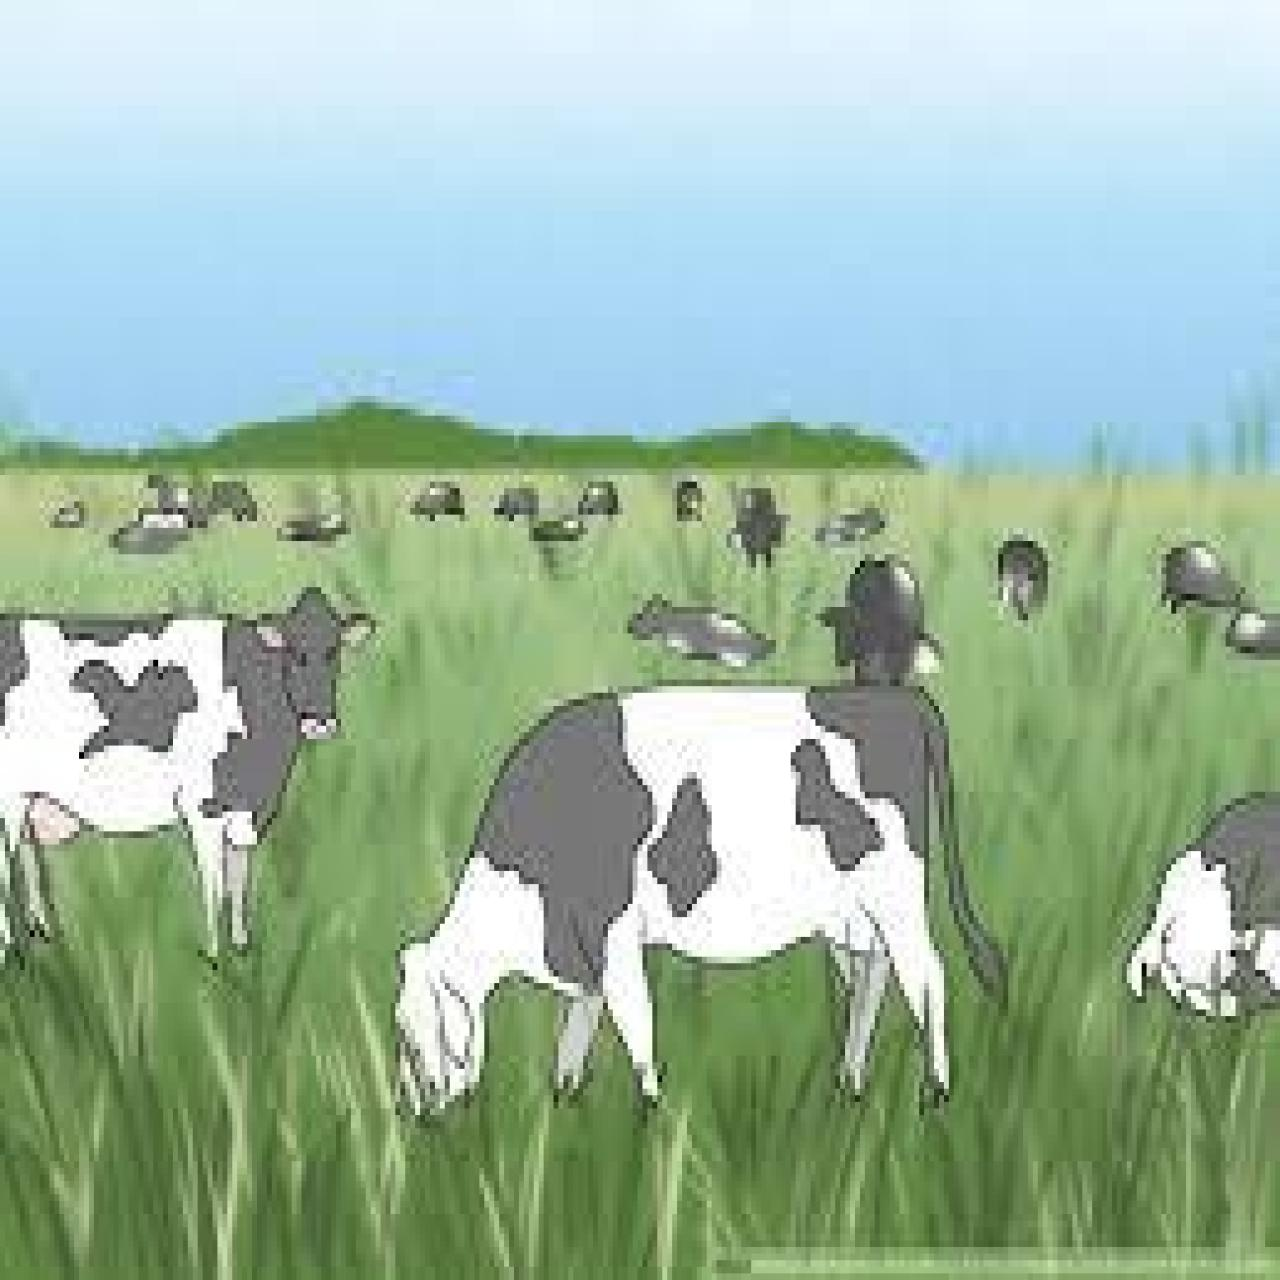cow: (393, 680, 1012, 1129), (0, 584, 376, 967), (1126, 791, 1280, 1022), (816, 554, 948, 686), (625, 591, 783, 669), (1157, 538, 1251, 617), (990, 535, 1050, 627), (147, 471, 210, 531), (114, 508, 192, 554), (810, 498, 890, 544), (741, 485, 781, 577), (1225, 610, 1280, 663), (727, 511, 796, 551), (203, 478, 263, 524), (410, 478, 470, 524), (274, 508, 354, 542), (573, 478, 622, 524), (492, 485, 542, 524), (531, 511, 586, 545), (675, 478, 709, 524), (49, 498, 89, 531)
